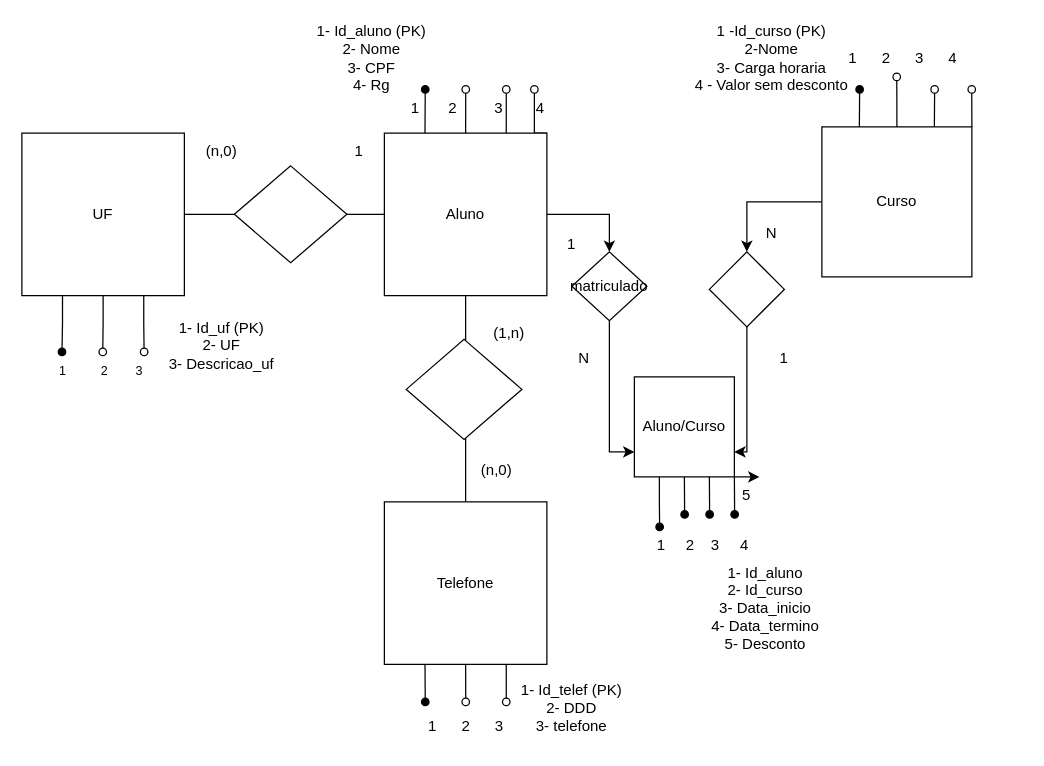
This 1044x766 diagram has some shape labels left out. Each missing label, with the centre of its shape:
"matriculado/ possui" goes at pixel 463 388.
"possui" goes at pixel 746 289.
"possui/ reside" goes at pixel 290 214.
